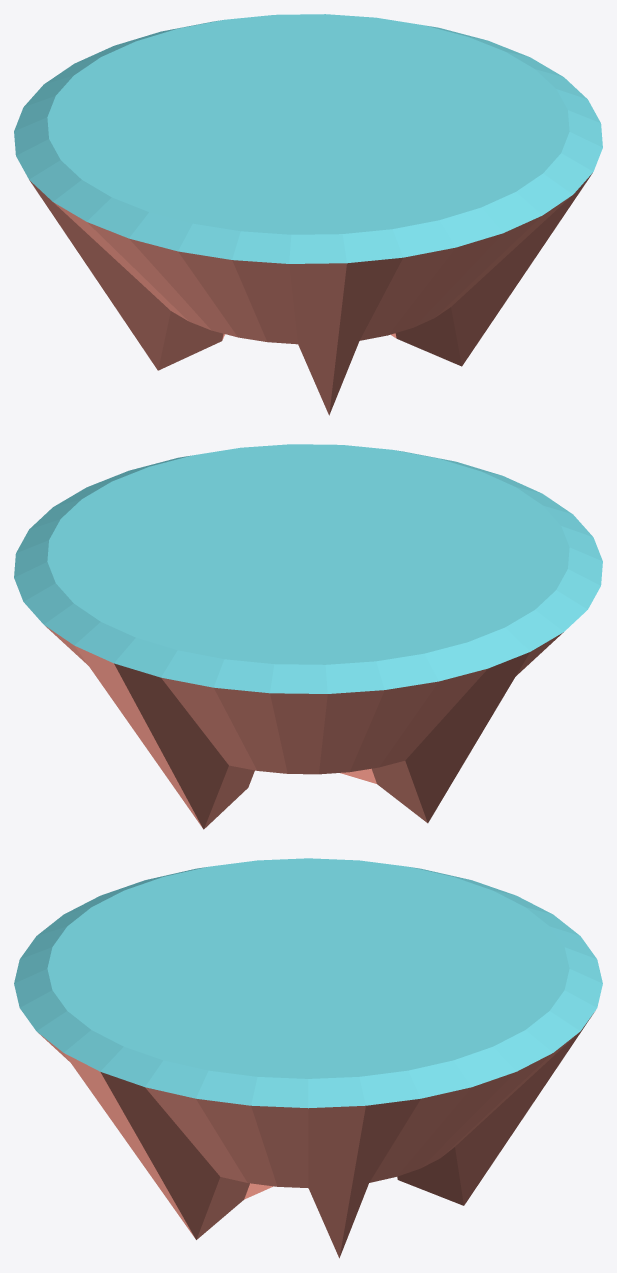
File: SkyPlatformThatHopefullyworks.fbx
3 renders of one model, top to bottom at view 1: azimuth 30°, elevation 25°; view 2: azimuth 150°, elevation 25°; view 3: azimuth 270°, elevation 25°, orthographic.
Visible parts, largest first — view 1: Skyplatformmesh; view 2: Skyplatformmesh; view 3: Skyplatformmesh.
Boxes of the visible parts, x1,y1,x2,y2 form: Skyplatformmesh: [14, 14, 602, 415]; Skyplatformmesh: [14, 444, 602, 829]; Skyplatformmesh: [14, 858, 602, 1258].
Size of the model in its own units: 692 by 291 by 692.
